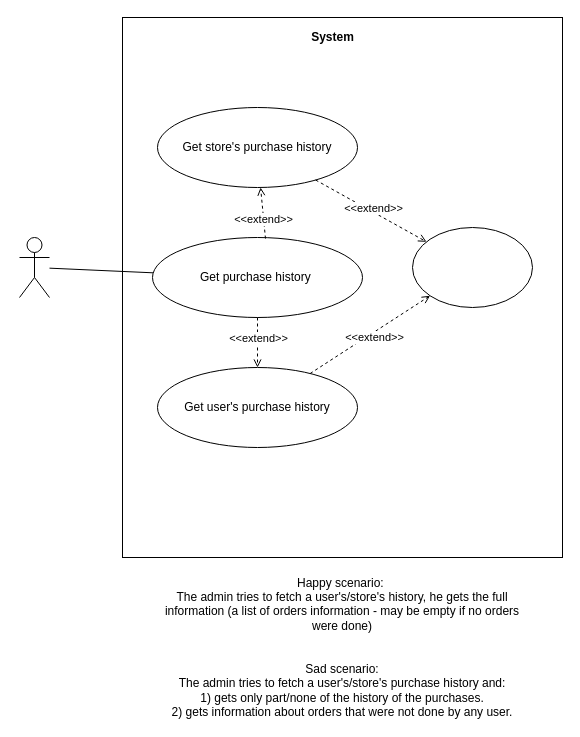
Some shapes in this 580 by 737 pixel diagram are drawn without their labels. The shapes that lost their labels are listed below. From the top down, each one's centre as x and y in pixels, then its label:
At (34,267): "Admin".
At (472,267): "Get order information".
